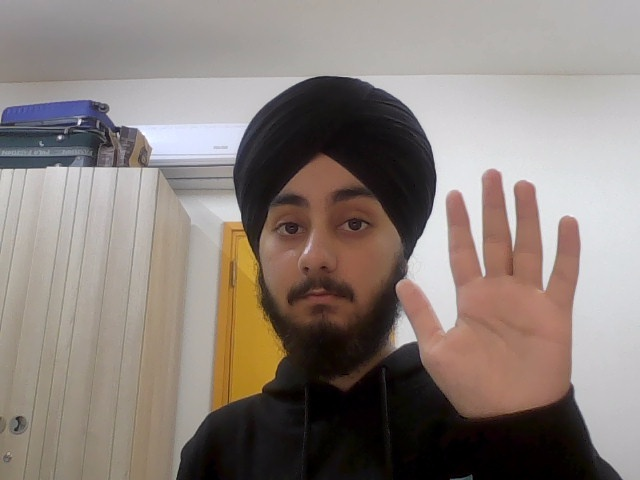Hello: (394, 168, 593, 412)
